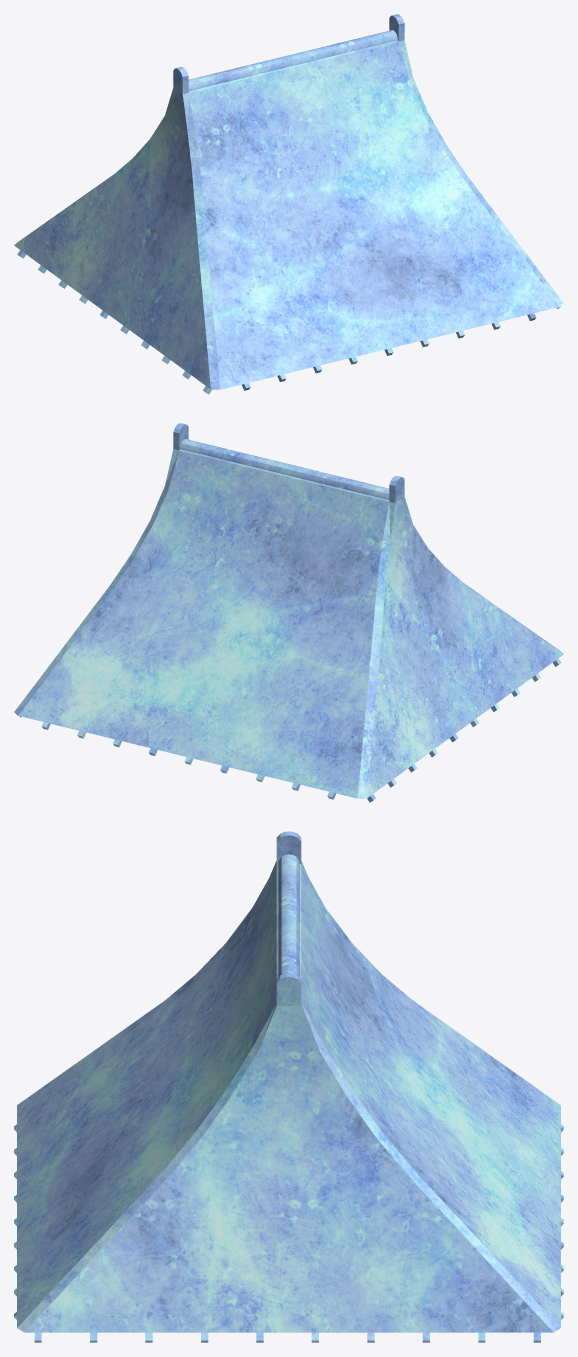
Rendered from sb_obj_outdoor023_IceCastle01_roof00.fbx.
The picture shows the model from 3 angles, top to bottom: view 1: azimuth 30°, elevation 25°; view 2: azimuth 150°, elevation 25°; view 3: azimuth 270°, elevation 25°; orthographic projection. The views are drawn at different scales.
Visible parts, largest first — view 1: sb_obj_outdoor023_IceCastle01_roof00; view 2: sb_obj_outdoor023_IceCastle01_roof00; view 3: sb_obj_outdoor023_IceCastle01_roof00.
Part boxes in pixels (left/top/right/bottom): sb_obj_outdoor023_IceCastle01_roof00: left=14, top=14, right=563, bottom=394; sb_obj_outdoor023_IceCastle01_roof00: left=14, top=423, right=563, bottom=802; sb_obj_outdoor023_IceCastle01_roof00: left=14, top=831, right=563, bottom=1342.
Bounding box in the file's own units: 9.98 × 6.44 × 9.92.
